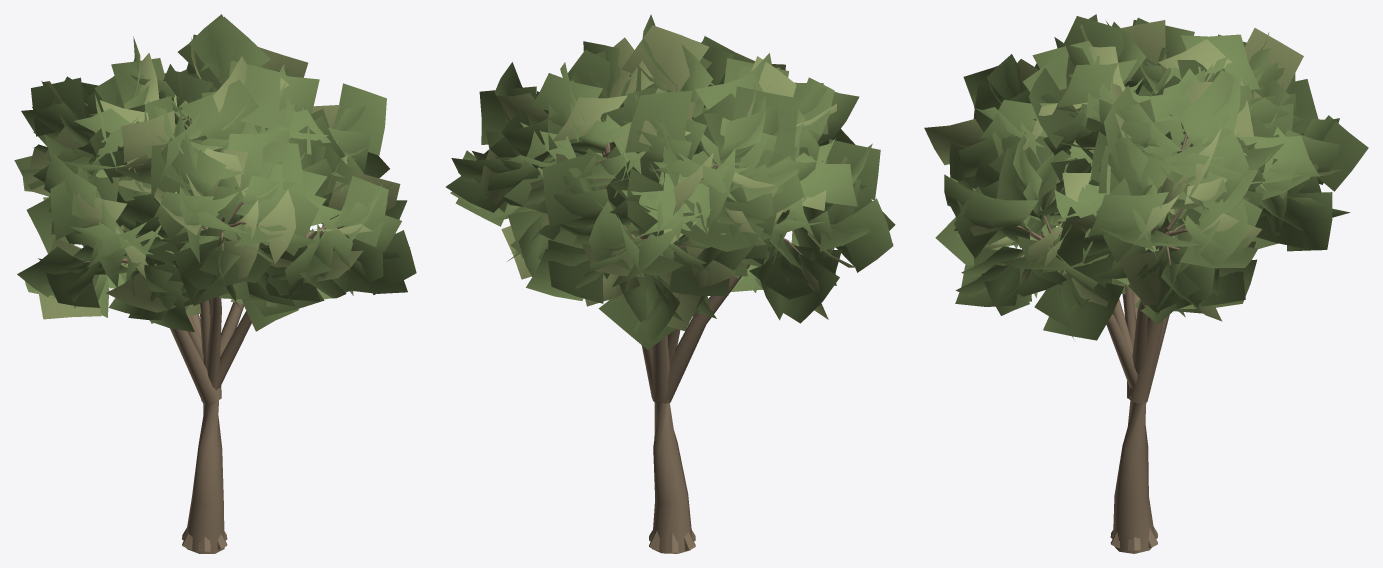
File: tree.glb
3 renders of one model, left to right at view 1: azimuth 30°, elevation 25°; view 2: azimuth 150°, elevation 25°; view 3: azimuth 270°, elevation 25°, orthographic. The views are drawn at different scales.
Visible parts, largest first — view 1: foliage, foliage-light, wood; view 2: foliage, foliage-light, wood; view 3: foliage, foliage-light, wood.
Boxes of the visible parts, left/top/right/bottom form: foliage: left=14, top=14, right=416, bottom=332; foliage-light: left=25, top=38, right=409, bottom=323; wood: left=84, top=78, right=344, bottom=553; foliage: left=446, top=14, right=895, bottom=349; foliage-light: left=480, top=25, right=855, bottom=330; wood: left=597, top=85, right=835, bottom=553; foliage: left=935, top=16, right=1368, bottom=340; foliage-light: left=924, top=14, right=1343, bottom=321; wood: left=1015, top=70, right=1192, bottom=553.
Bounding box in the file's own units: 7.08 × 8.37 × 6.57.
